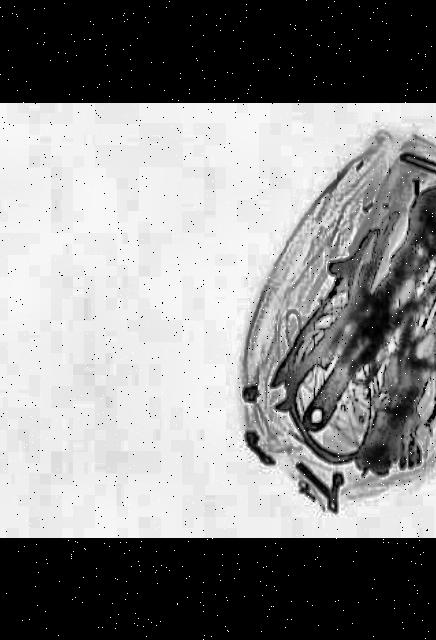Wrench: (279, 177, 436, 440), (251, 290, 380, 416)
